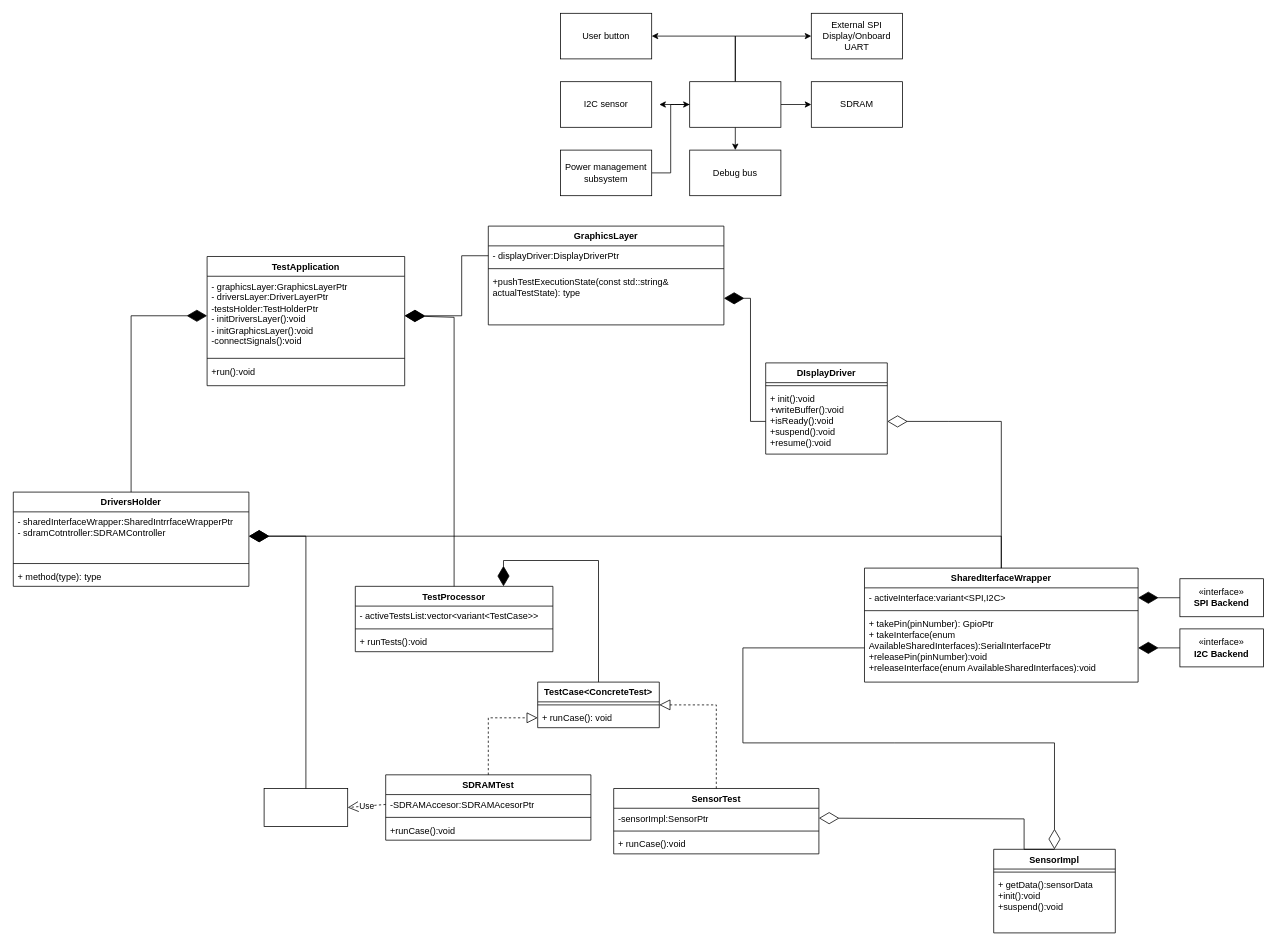
Image size: 1277x948. Some labels were removed from this diagram. The shapes that lost their labels are listed below. From the top down, each one's centre as x and y in pixels, then its label:
At point 735,104: "STM32F4".
At point 305,807: "«interface» SDRAM Accesor".
